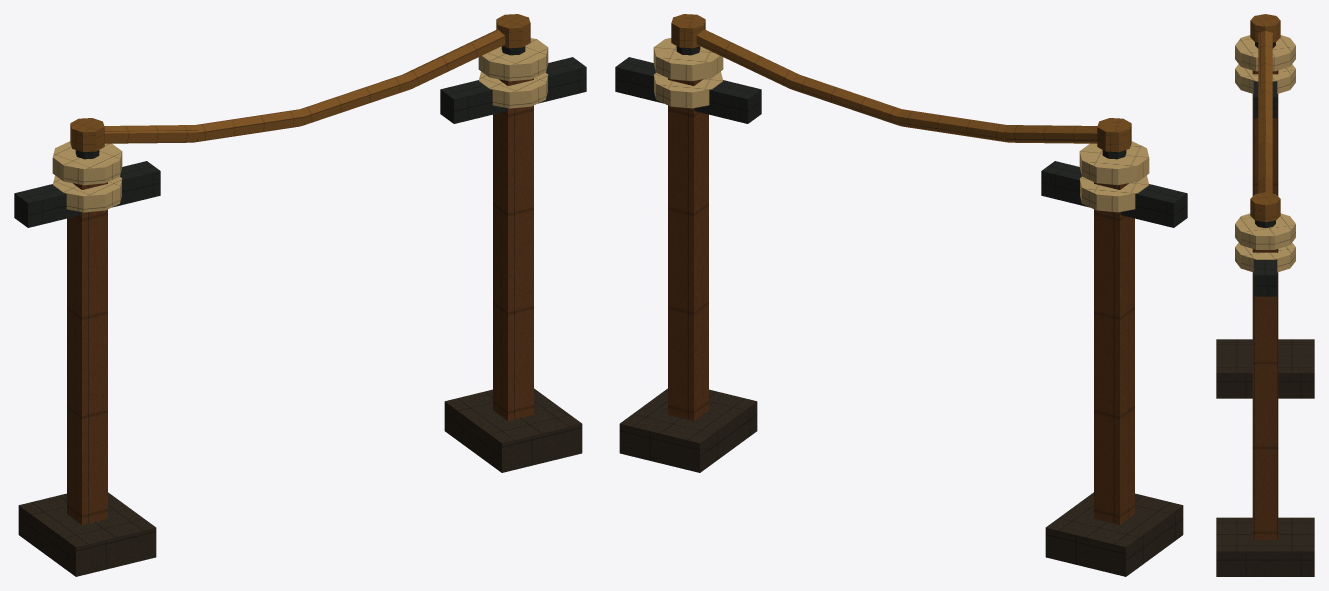
File: wire-run.e3.glb
3 renders of one model, left to right at view 1: azimuth 30°, elevation 25°; view 2: azimuth 150°, elevation 25°; view 3: azimuth 270°, elevation 25°, orthographic. The views are drawn at different scales.
Visible parts, largest first — view 1: WireRunE3; view 2: WireRunE3; view 3: WireRunE3.
Boxes of the visible parts, bbox=[...] form: WireRunE3: bbox=[14, 14, 586, 576]; WireRunE3: bbox=[615, 14, 1187, 576]; WireRunE3: bbox=[1216, 14, 1314, 576].
Size of the model in its own units: 2.36 by 1.7 by 0.42.
1 material, 1 textured.
